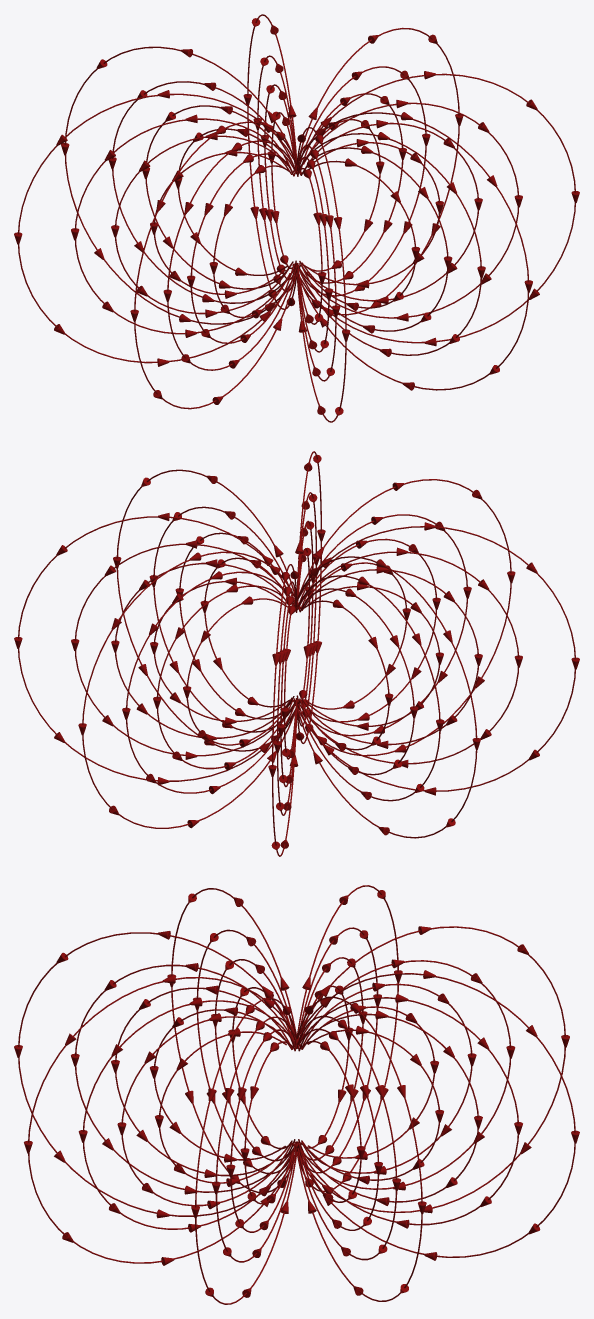
File: Magnetic Field Midpoly OBJ.obj
3 views of the same model, one above another, from view 1: azimuth 30°, elevation 25°; view 2: azimuth 150°, elevation 25°; view 3: azimuth 270°, elevation 25° (orthographic). The views are drawn at different scales.
Visible parts, largest first — view 1: Cylinder008_Detached040; view 2: Cylinder008_Detached040; view 3: Cylinder008_Detached040.
Boxes of the visible parts, x1=… form: Cylinder008_Detached040: x1=14, y1=14, x2=579, y2=422; Cylinder008_Detached040: x1=14, y1=451, x2=579, y2=856; Cylinder008_Detached040: x1=14, y1=885, x2=579, y2=1304.
Bounding box in the file's own units: 56.53 × 31.79 × 56.53.
